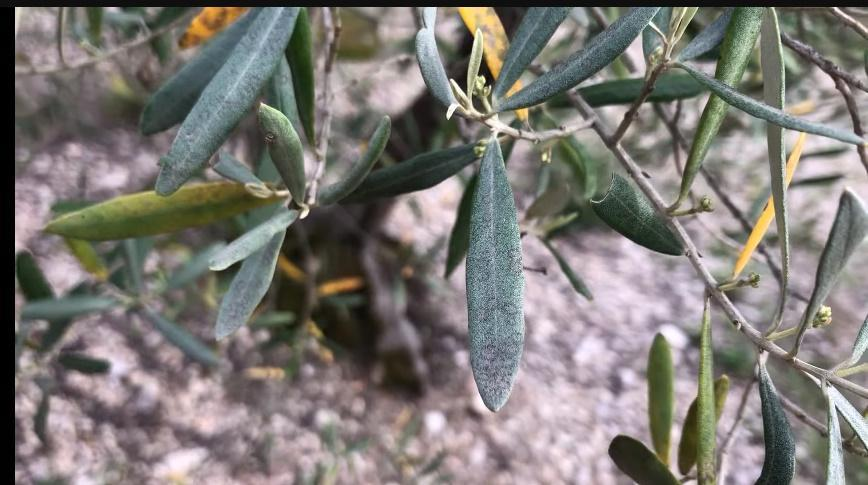OlivePeacockSpot: (152, 10, 298, 192), (496, 9, 656, 113), (469, 134, 522, 416), (41, 184, 280, 240), (214, 237, 284, 341), (256, 106, 311, 207), (176, 8, 248, 50), (462, 8, 510, 68)
